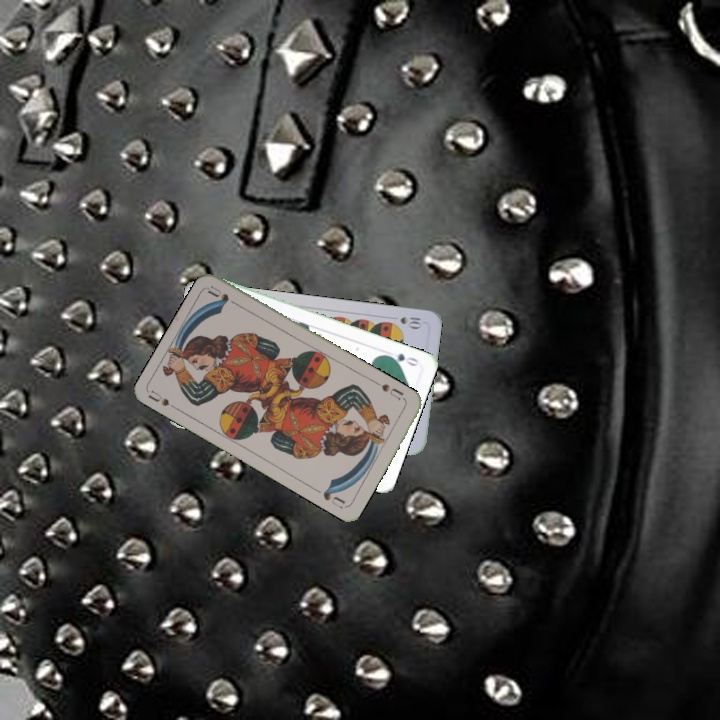GO: (381, 349, 421, 369)
S10: (396, 313, 424, 331)
SU: (145, 387, 184, 414), (377, 380, 406, 402)
